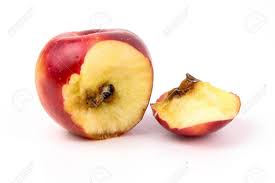damaged_apple: (36, 31, 154, 138), (151, 67, 241, 139)
